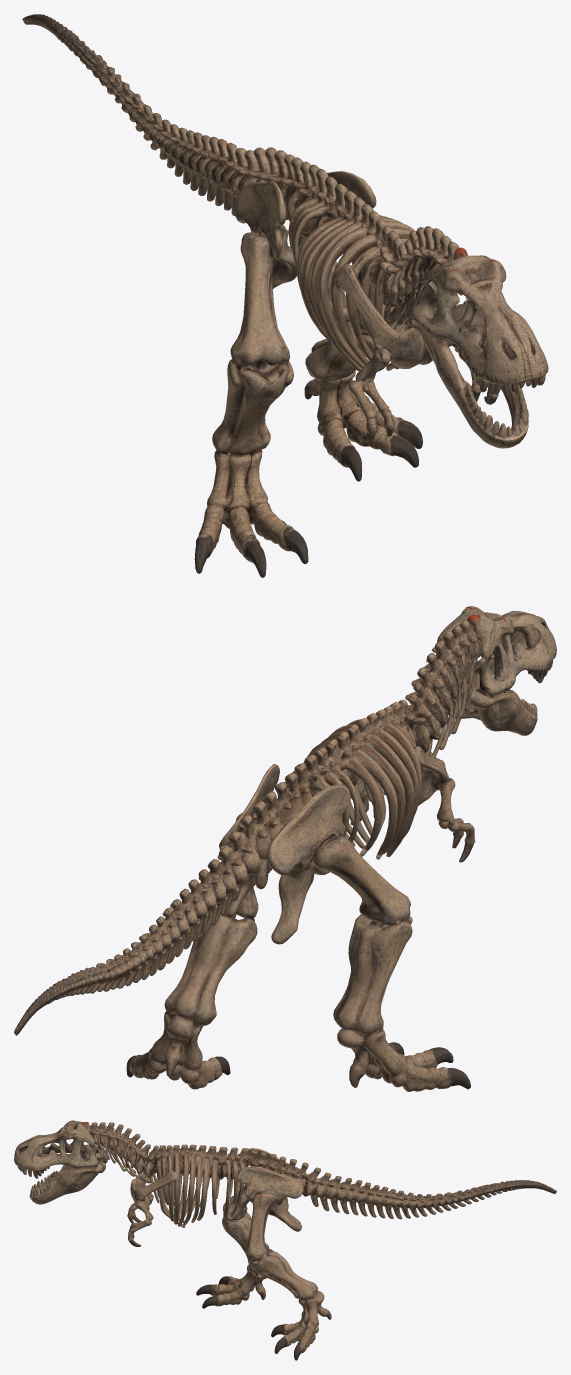
Rendered from trex_body.glb.
The picture shows the model from 3 angles, top to bottom: view 1: azimuth 30°, elevation 25°; view 2: azimuth 150°, elevation 25°; view 3: azimuth 270°, elevation 25°; orthographic projection. The views are drawn at different scales.
Visible parts, largest first — view 1: body; view 2: body; view 3: body.
Boxes of the visible parts, <box> form: body: <box>22,14,548,577</box>; body: <box>14,606,556,1091</box>; body: <box>14,1120,556,1360</box>.
Size of the model in its own units: 0.6107 by 0.7635 by 1.9.
1 material, 1 textured.
